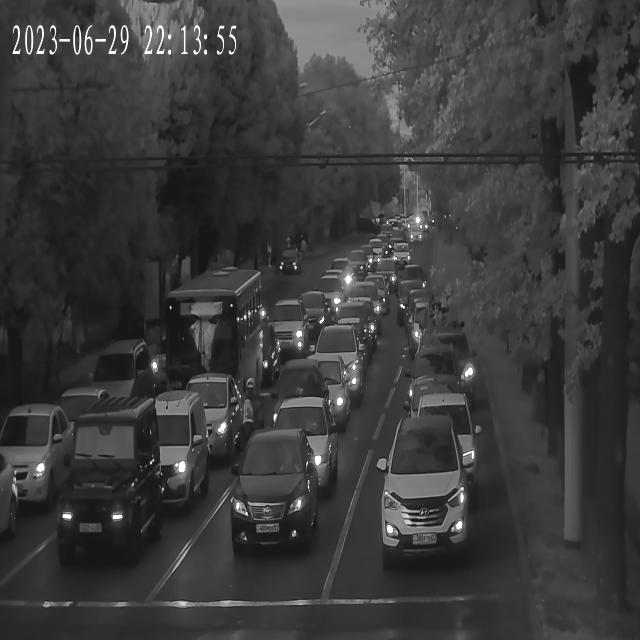Bus: (165, 274, 264, 441), (58, 402, 158, 564)
Car: (379, 415, 477, 567), (230, 431, 316, 552), (136, 394, 206, 514), (0, 403, 76, 503), (170, 373, 250, 463), (401, 397, 478, 485), (261, 359, 341, 438), (248, 420, 321, 500), (90, 339, 160, 421), (306, 328, 368, 400), (283, 356, 353, 411), (417, 333, 478, 392), (407, 348, 468, 407), (405, 370, 470, 421), (259, 297, 311, 354), (409, 304, 449, 356), (333, 300, 379, 343), (292, 292, 338, 332), (343, 285, 383, 324), (0, 450, 16, 546), (404, 285, 437, 328), (396, 266, 433, 302), (311, 276, 346, 309), (326, 259, 356, 289), (372, 264, 398, 283), (278, 256, 300, 278), (370, 234, 390, 253), (409, 225, 423, 251), (359, 248, 373, 272), (394, 247, 412, 264)
